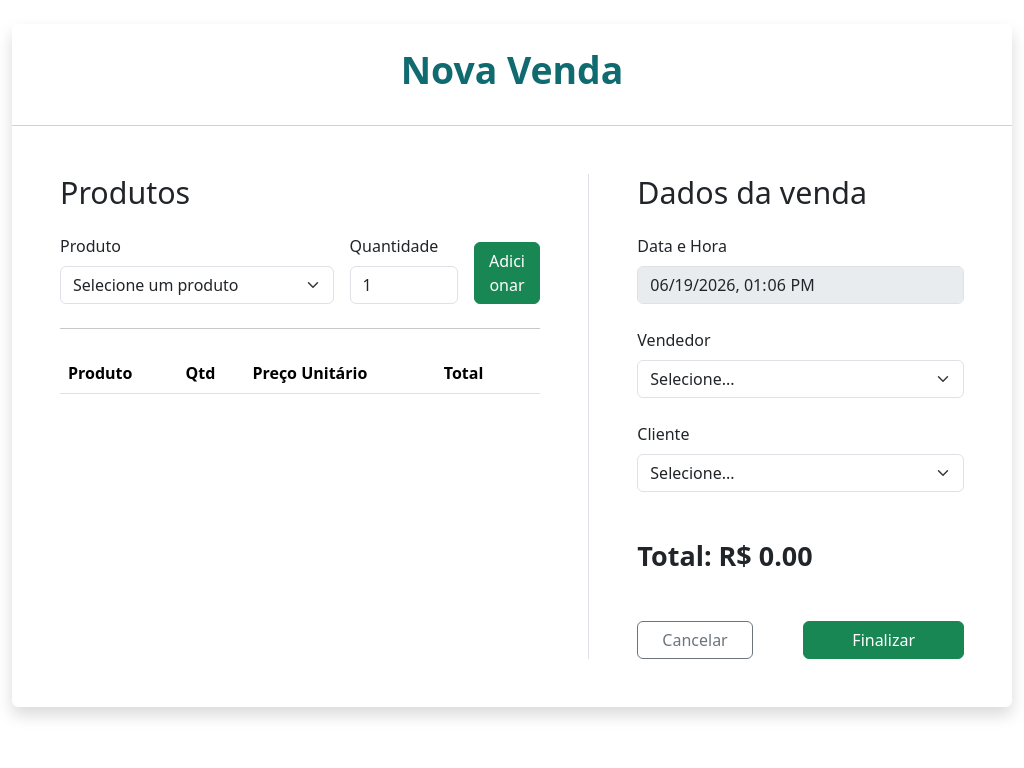
Test: FormularioVenda › deve remover produto
Select "Notebook" in the dropdown below "Quantidade" at (197, 285), box [60,266,334,304]
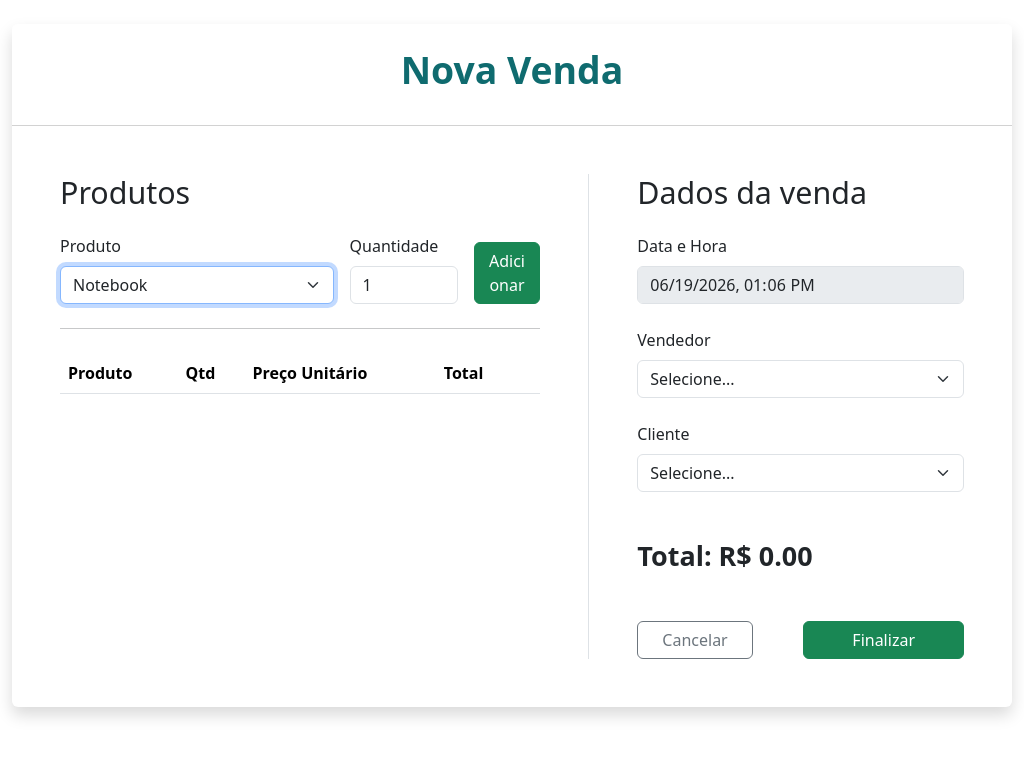
Click the button "Adicionar" at (507, 273), box [474,242,540,304]
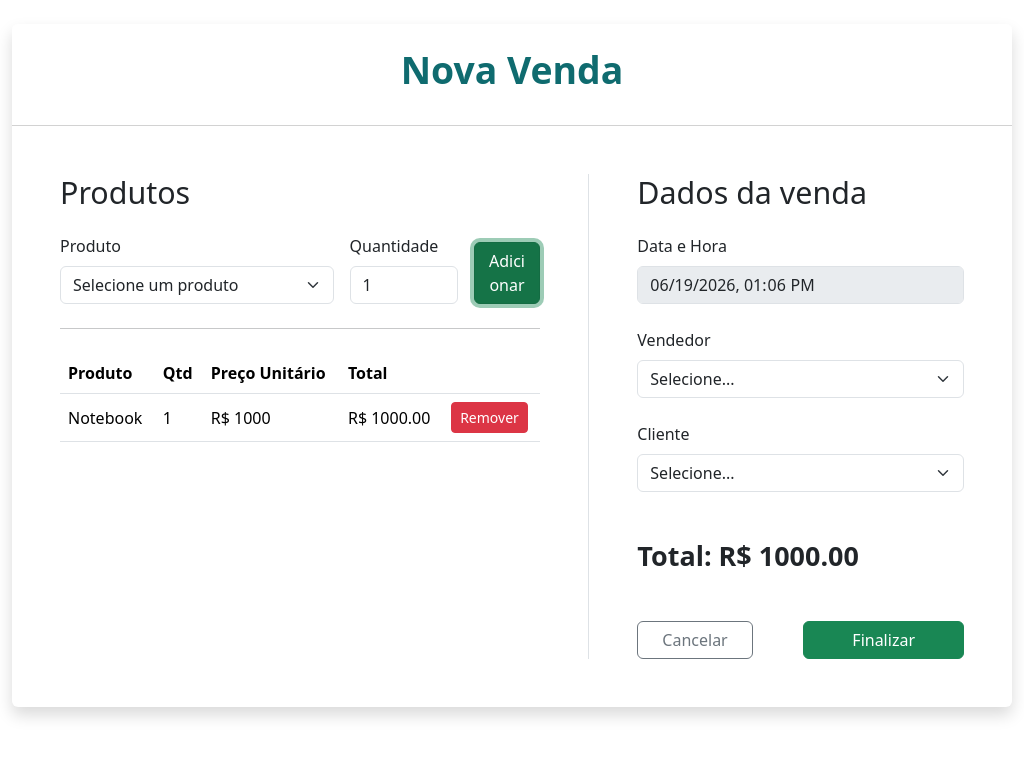
Expected: the text "Notebook" is shown, [60,394,155,442]
Click the button "Remover" at (489, 418), box [451,402,528,433]
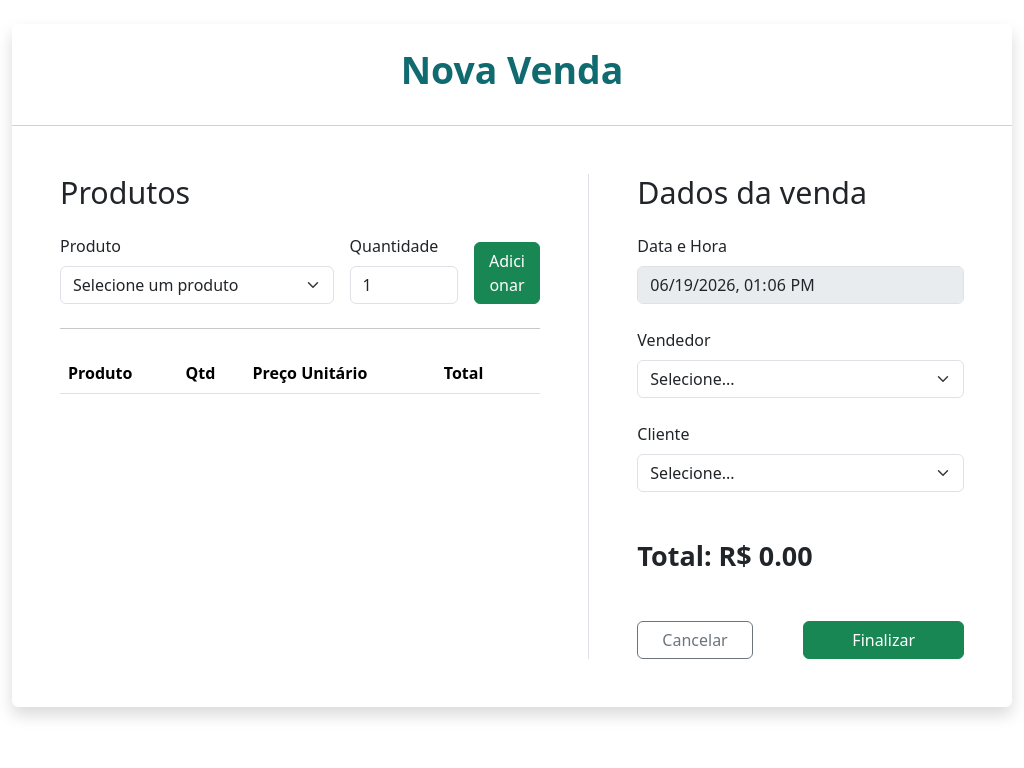
Expected: the cell "Notebook" is gone
